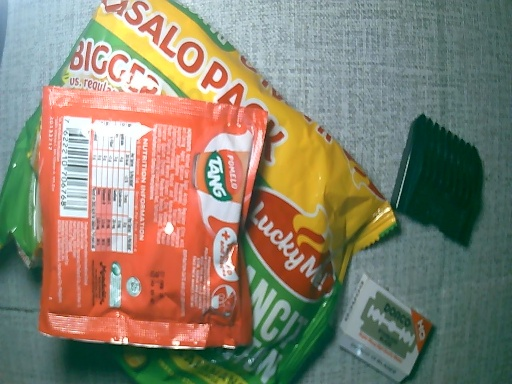plastic: (7, 1, 388, 381), (43, 85, 255, 356)
trash: (394, 115, 480, 248), (339, 270, 433, 384)
